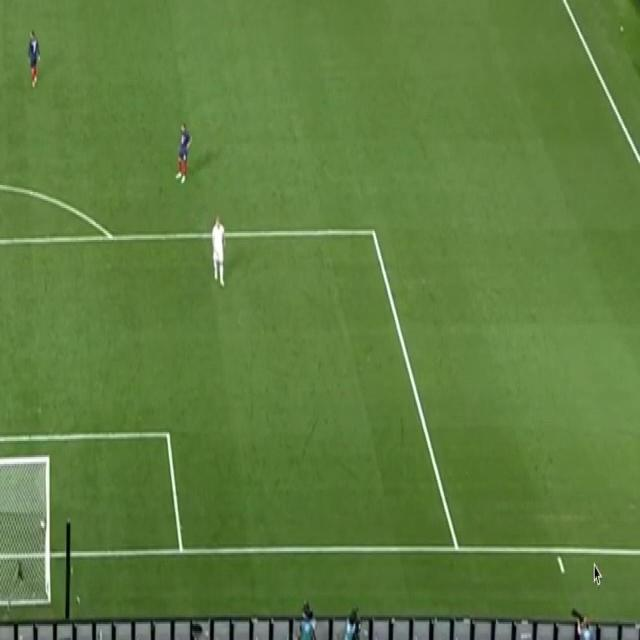player-white: (209, 213, 229, 293), (172, 121, 193, 189), (24, 25, 41, 90)
